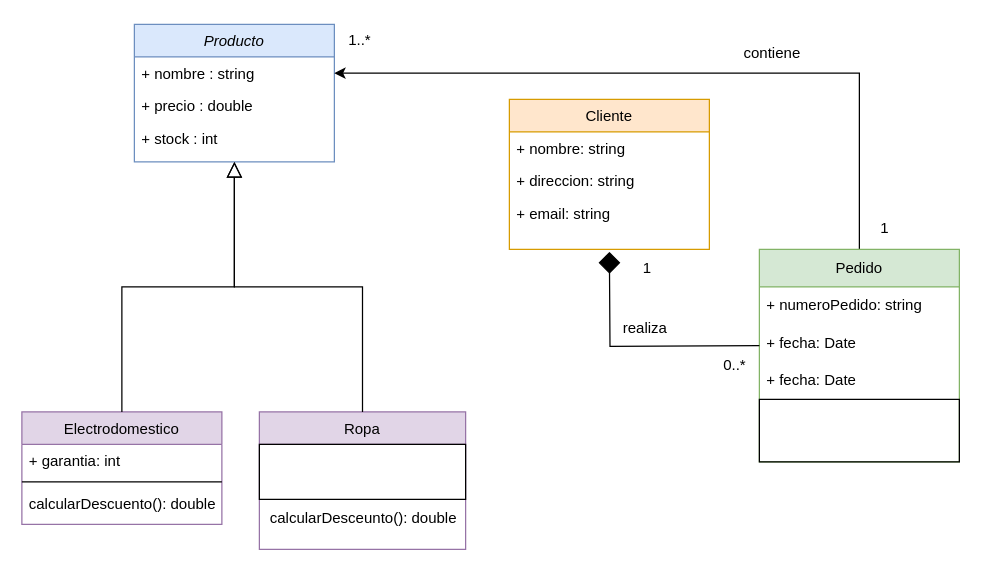
Some shapes in this 981 by 571 pixel diagram are drawn without their labels. Each missing label, with the centre of its shape:
+talla: string +color: string calcularDesceunto(): double: (x=362, y=471)
productos: List<Producto> Cliente: cliente: (x=858, y=430)
